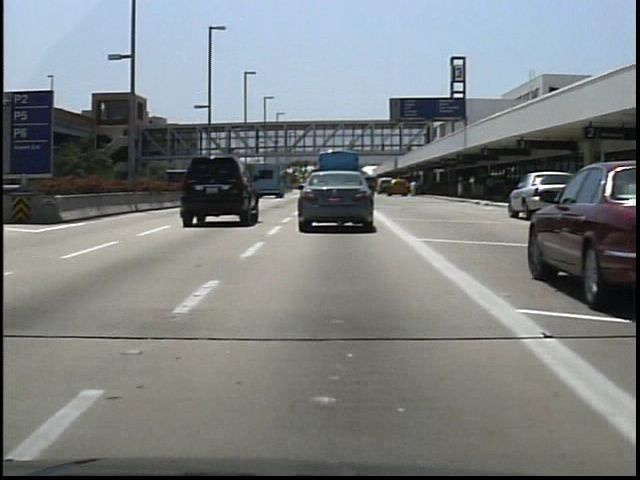person: (404, 177, 419, 202), (379, 136, 392, 158), (344, 136, 357, 156)
